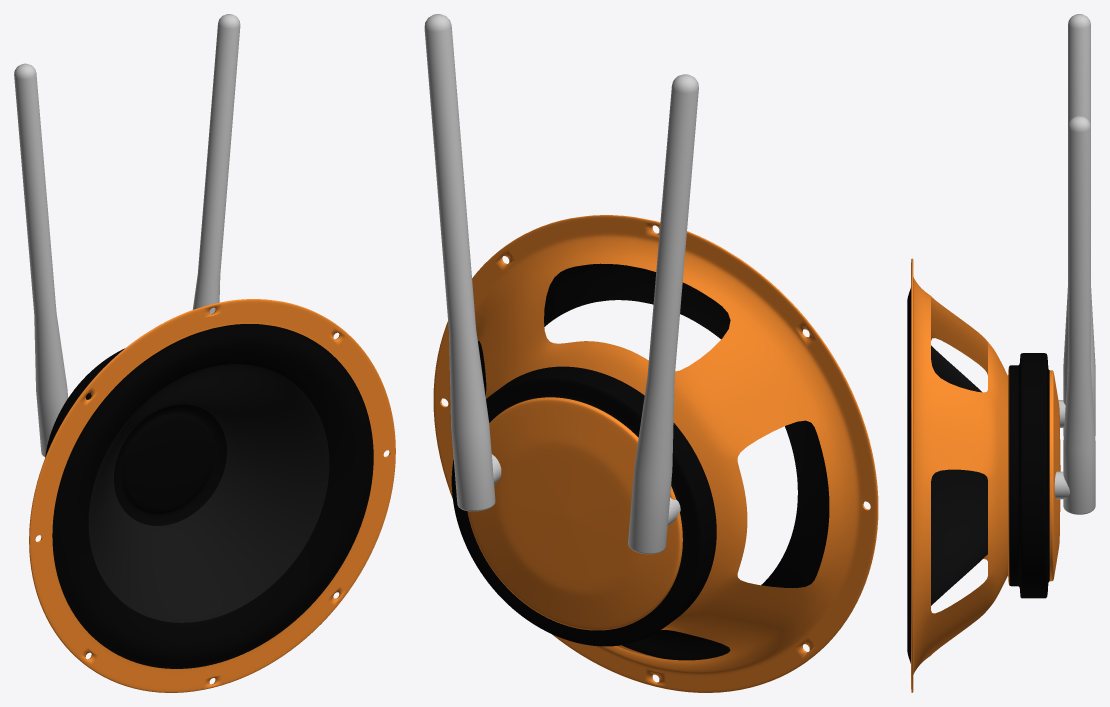
File: bunnySpeaker.obj
3 views of the same model, side by side, from view 1: azimuth 30°, elevation 25°; view 2: azimuth 150°, elevation 25°; view 3: azimuth 270°, elevation 25° (orthographic). The views are drawn at different scales.
Visible parts, largest first — view 1: bunny; view 2: bunny; view 3: bunny.
Part boxes in pixels (x1,y1,x2,y2): bunny: (14,14,395,692); bunny: (424,14,878,692); bunny: (907,14,1095,692).
Size of the model in its own units: 6.06 by 9.29 by 2.63.
